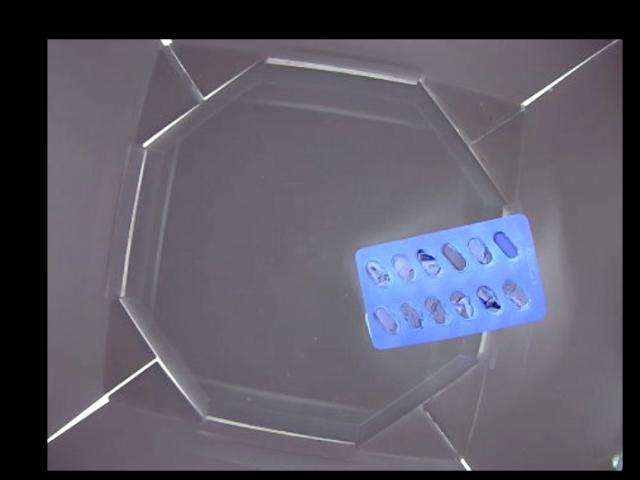Medicine: (354, 212, 550, 350)
